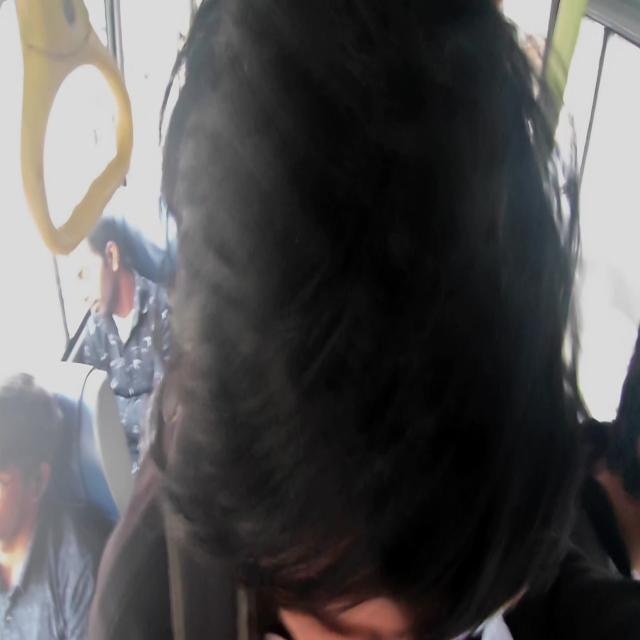person: (166, 58, 549, 629), (599, 294, 640, 634), (0, 334, 48, 559), (66, 222, 131, 315)
